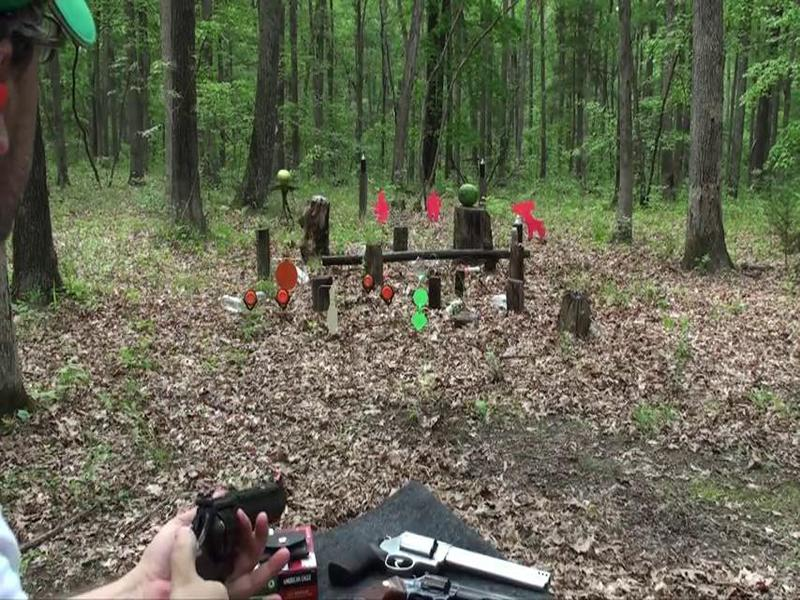Revolver: (158, 472, 307, 595)
